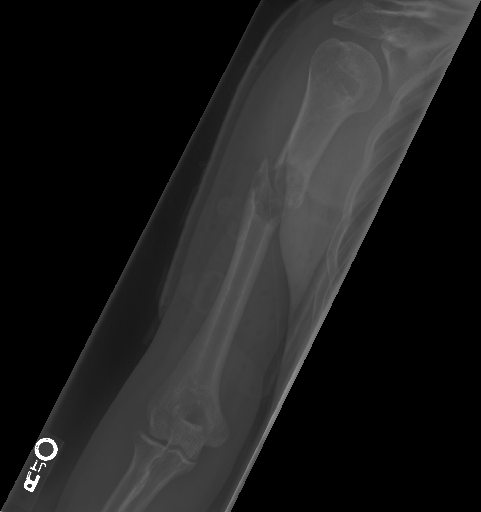fracture: (248, 145, 318, 235), (122, 408, 200, 471)
